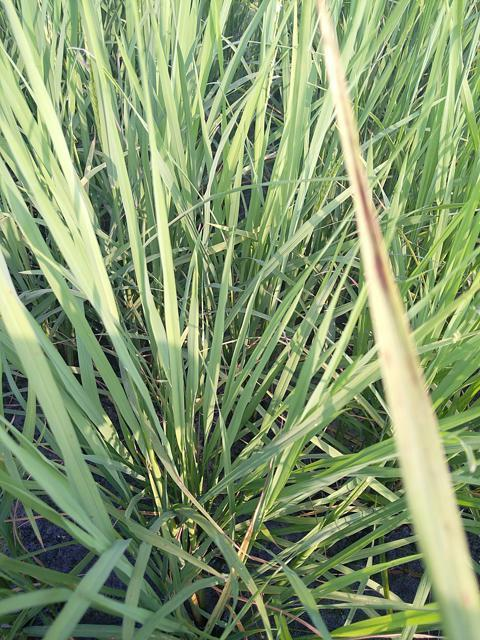Leaf Blight: (316, 0, 479, 639)
